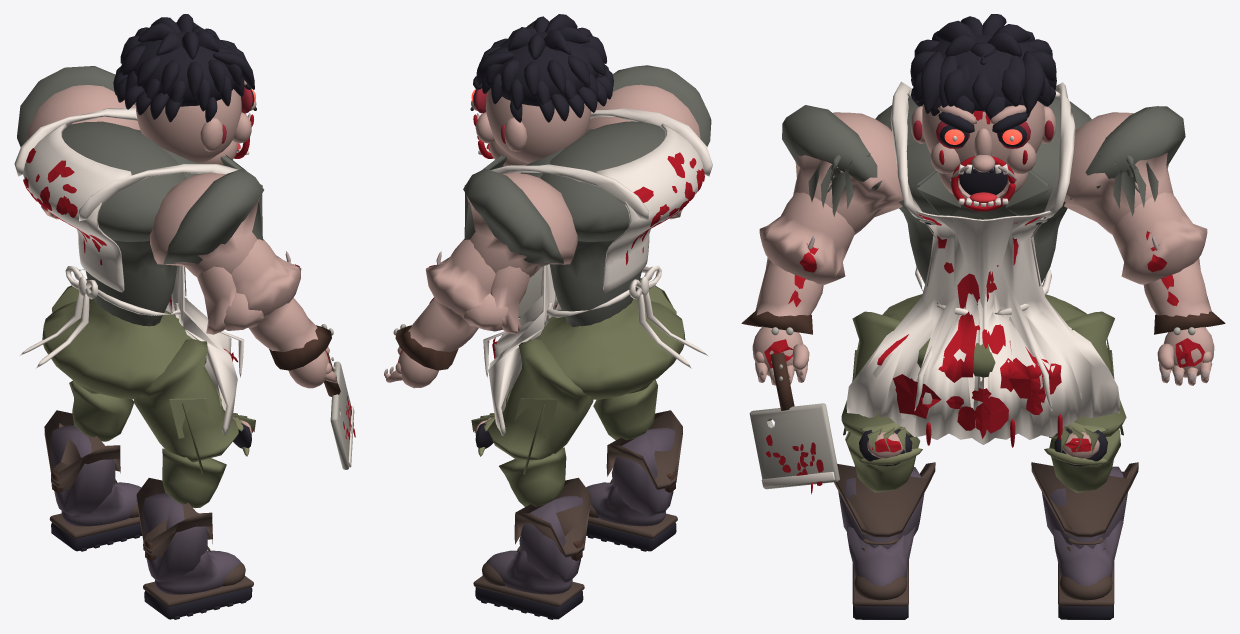
The picture shows the model from 3 angles, left to right: view 1: azimuth 30°, elevation 25°; view 2: azimuth 150°, elevation 25°; view 3: azimuth 270°, elevation 25°; orthographic projection. The views are drawn at different scales.
Visible parts, largest first — view 1: torso__mesh, head__mesh, armR__mesh, footR__mesh, footL__mesh, hip__mesh, legR__mesh, armL__mesh, foreArmR__mesh, shinR__mesh, shinL__mesh, weaponSocketR__mesh (+1 smaller); view 2: torso__mesh, head__mesh, armL__mesh, footL__mesh, footR__mesh, hip__mesh, legL__mesh, armR__mesh, foreArmL__mesh, shinL__mesh, shinR__mesh, handL__mesh (+1 smaller); view 3: torso__mesh, head__mesh, armR__mesh, armL__mesh, footL__mesh, footR__mesh, weaponSocketR__mesh, legR__mesh, legL__mesh, foreArmR__mesh, foreArmL__mesh, handL__mesh (+4 smaller).
Part boxes in pixels (x1=…): torso__mesh: x1=14, y1=108, x2=246, y2=435; head__mesh: x1=113, y1=14, x2=256, y2=165; armR__mesh: x1=149, y1=168, x2=301, y2=334; footR__mesh: x1=136, y1=478, x2=253, y2=619; footL__mesh: x1=44, y1=410, x2=142, y2=551; hip__mesh: x1=42, y1=298, x2=206, y2=399; legR__mesh: x1=134, y1=339, x2=255, y2=474; armL__mesh: x1=17, y1=66, x2=139, y2=219; foreArmR__mesh: x1=224, y1=251, x2=333, y2=370; shinR__mesh: x1=162, y1=448, x2=226, y2=508; shinL__mesh: x1=69, y1=380, x2=133, y2=441; weaponSocketR__mesh: x1=324, y1=352, x2=355, y2=469; torso__mesh: x1=482, y1=108, x2=712, y2=435; head__mesh: x1=470, y1=14, x2=613, y2=173; armL__mesh: x1=426, y1=168, x2=577, y2=334; footL__mesh: x1=473, y1=477, x2=590, y2=619; footR__mesh: x1=586, y1=410, x2=682, y2=551; hip__mesh: x1=521, y1=298, x2=685, y2=399; legL__mesh: x1=471, y1=339, x2=593, y2=474; armR__mesh: x1=587, y1=65, x2=711, y2=219; foreArmL__mesh: x1=393, y1=251, x2=518, y2=370; shinL__mesh: x1=499, y1=447, x2=566, y2=506; shinR__mesh: x1=593, y1=379, x2=657, y2=440; handL__mesh: x1=384, y1=346, x2=438, y2=388; torso__mesh: x1=846, y1=81, x2=1120, y2=447; head__mesh: x1=910, y1=14, x2=1056, y2=211; armR__mesh: x1=759, y1=105, x2=903, y2=284; armL__mesh: x1=1064, y1=106, x2=1207, y2=284; footL__mesh: x1=1031, y1=462, x2=1138, y2=619; footR__mesh: x1=834, y1=462, x2=935, y2=619; weaponSocketR__mesh: x1=749, y1=352, x2=839, y2=494; legR__mesh: x1=841, y1=311, x2=922, y2=466; legL__mesh: x1=1044, y1=311, x2=1126, y2=466; foreArmR__mesh: x1=741, y1=235, x2=823, y2=335; foreArmL__mesh: x1=1143, y1=235, x2=1225, y2=335; handL__mesh: x1=1157, y1=327, x2=1214, y2=385.
Size of what is drawn, in the model's own units: 0.9024 by 1.79 by 1.33.
